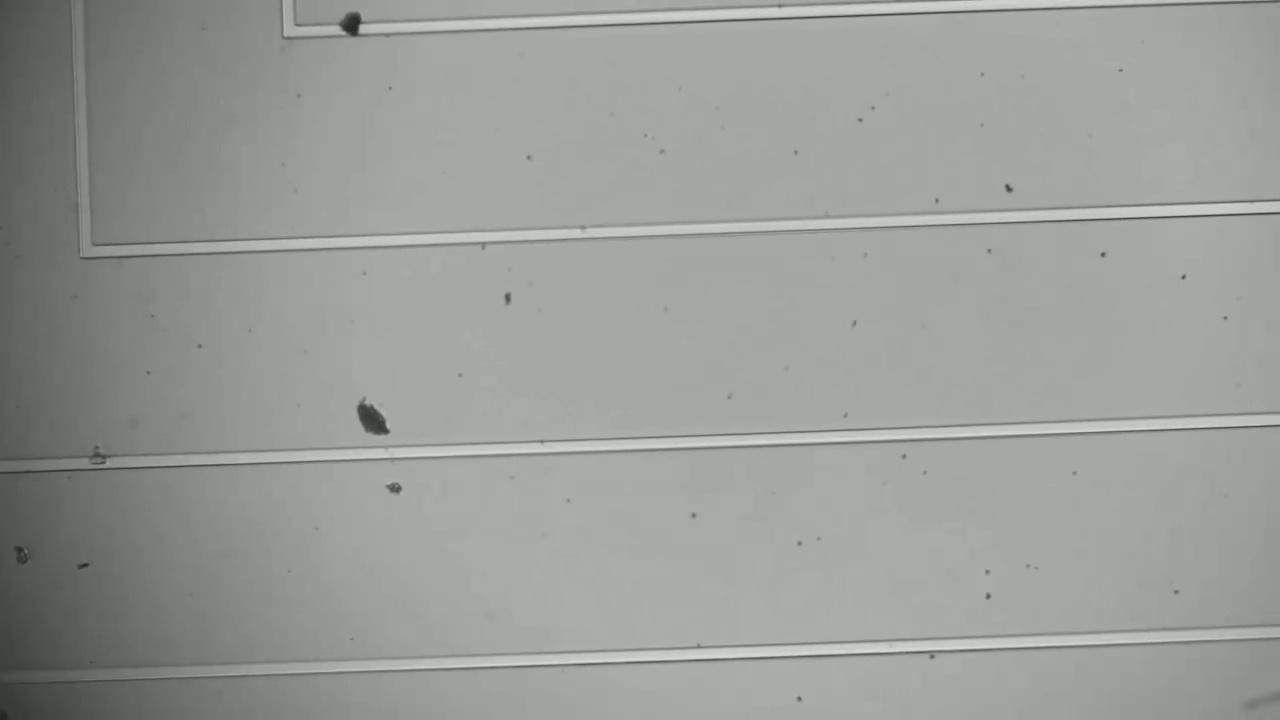stains_enbedded: (331, 2, 370, 47), (80, 442, 116, 483)
